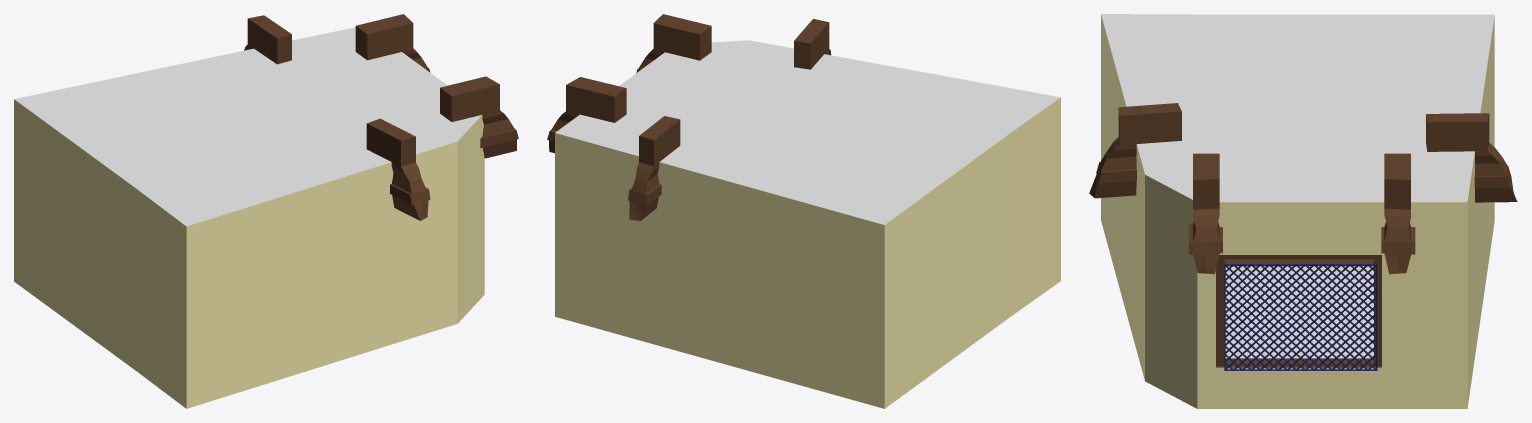
Rendered from Room base.glb.
The picture shows the model from 3 angles, left to right: view 1: azimuth 30°, elevation 25°; view 2: azimuth 150°, elevation 25°; view 3: azimuth 270°, elevation 25°; orthographic projection. The views are drawn at different scales.
Parts seen in each view (by area): view 1: Room walls, Wood pillars; view 2: Room walls, Wood pillars; view 3: Room walls, Wood pillars, Window thing.
Boxes of the visible parts, bbox=[...] form: Room walls: bbox=[14, 27, 484, 408]; Wood pillars: bbox=[244, 14, 518, 220]; Room walls: bbox=[555, 40, 1060, 408]; Wood pillars: bbox=[547, 14, 831, 220]; Room walls: bbox=[1101, 14, 1494, 408]; Wood pillars: bbox=[1089, 103, 1517, 274]; Window thing: bbox=[1224, 263, 1377, 370].
Size of the model in its own units: 110 by 58.24 by 95.76.
